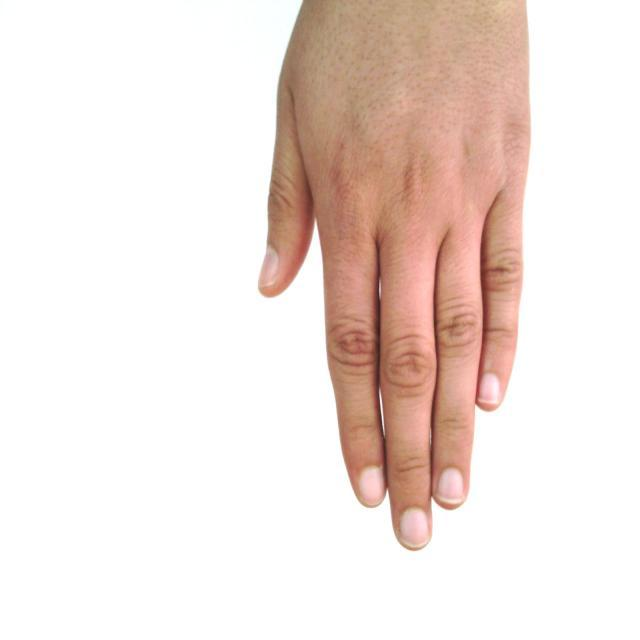Fingernail: (400, 508, 429, 547), (360, 467, 385, 505), (438, 468, 464, 501), (259, 245, 278, 288), (479, 375, 500, 404)
